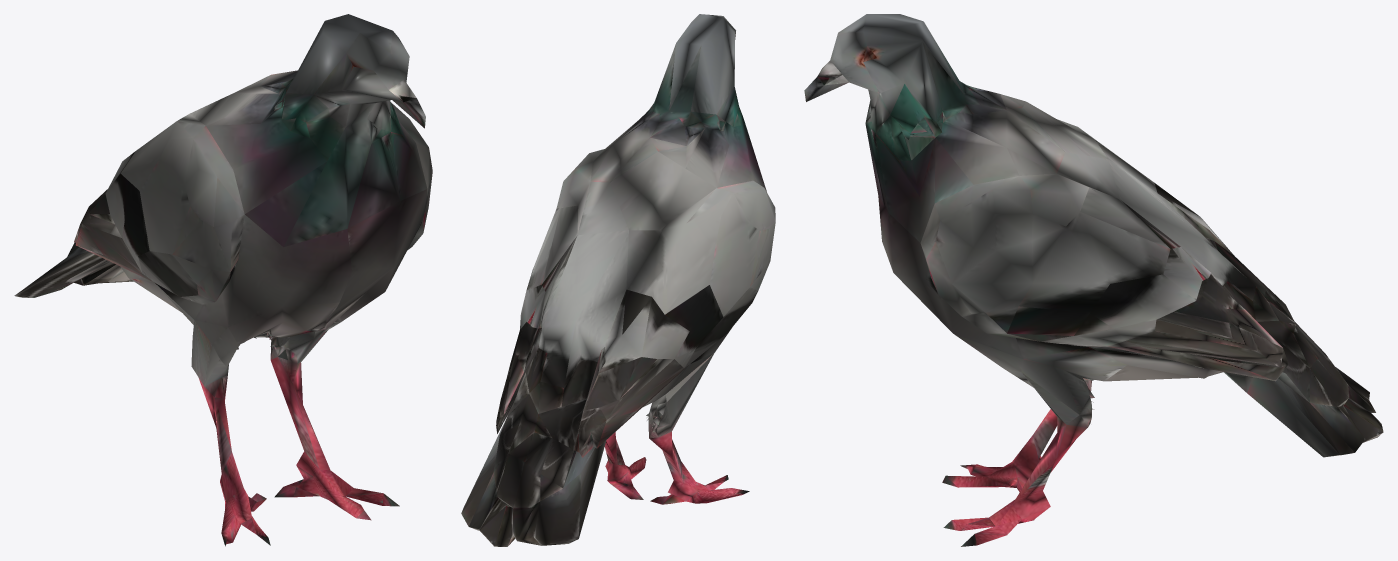
File: la_pigeon.glb
3 renders of one model, left to right at view 1: azimuth 30°, elevation 25°; view 2: azimuth 150°, elevation 25°; view 3: azimuth 270°, elevation 25°, orthographic. The views are drawn at different scales.
Visible parts, largest first — view 1: la_pigeon; view 2: la_pigeon; view 3: la_pigeon.
Boxes of the visible parts, <box> form: la_pigeon: <box>14,14,432,546</box>; la_pigeon: <box>461,14,775,546</box>; la_pigeon: <box>804,14,1383,546</box>.
Bounding box in the file's own units: 0.133 × 0.302 × 0.3201.
Materials: 1 (1 with a texture image).
